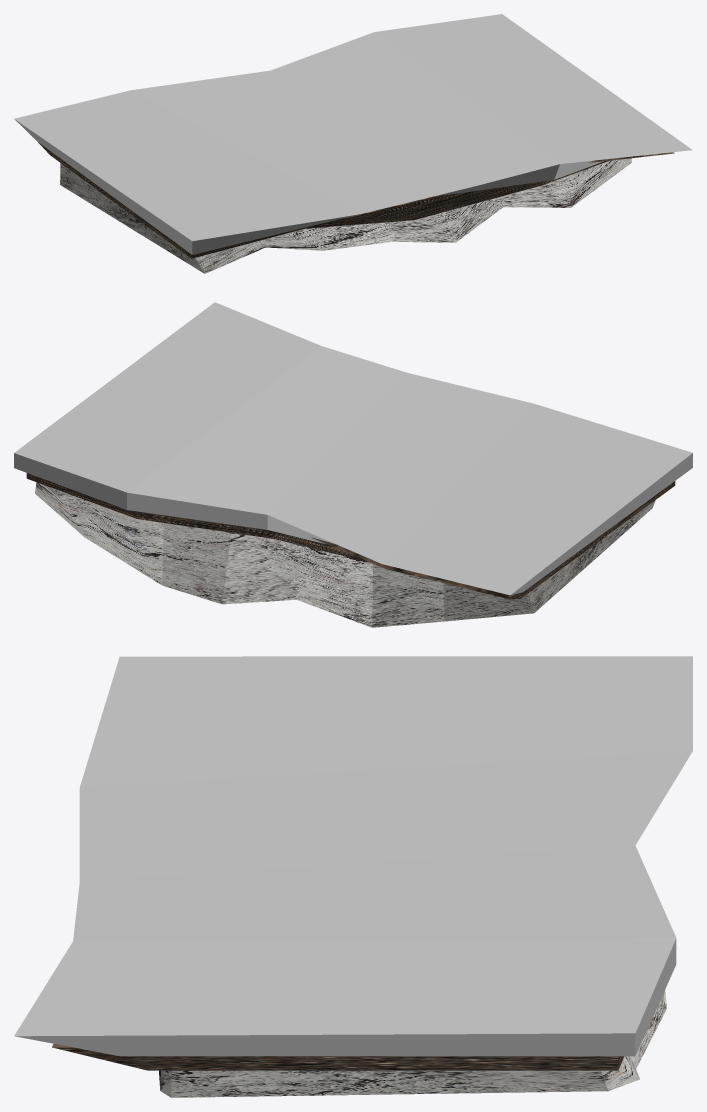
File: platform2.fbx
3 renders of one model, top to bottom at view 1: azimuth 30°, elevation 25°; view 2: azimuth 150°, elevation 25°; view 3: azimuth 270°, elevation 25°, orthographic. The views are drawn at different scales.
Visible parts, largest first — view 1: Kostka, Cube, Kostka.001; view 2: Kostka, Cube, Kostka.001; view 3: Kostka, Cube, Kostka.001.
Boxes of the visible parts, bbox=[...] form: Kostka: bbox=[14, 14, 692, 254]; Cube: bbox=[60, 158, 631, 273]; Kostka.001: bbox=[38, 142, 674, 258]; Kostka: bbox=[14, 302, 692, 595]; Cube: bbox=[35, 482, 655, 627]; Kostka.001: bbox=[26, 473, 675, 599]; Kostka: bbox=[14, 656, 692, 1056]; Cube: bbox=[159, 990, 666, 1097]; Kostka.001: bbox=[52, 1044, 623, 1070].
Bounding box in the file's own units: 433 × 77.53 × 323.
